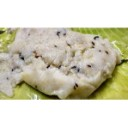venpongal: (7, 26, 118, 96)
